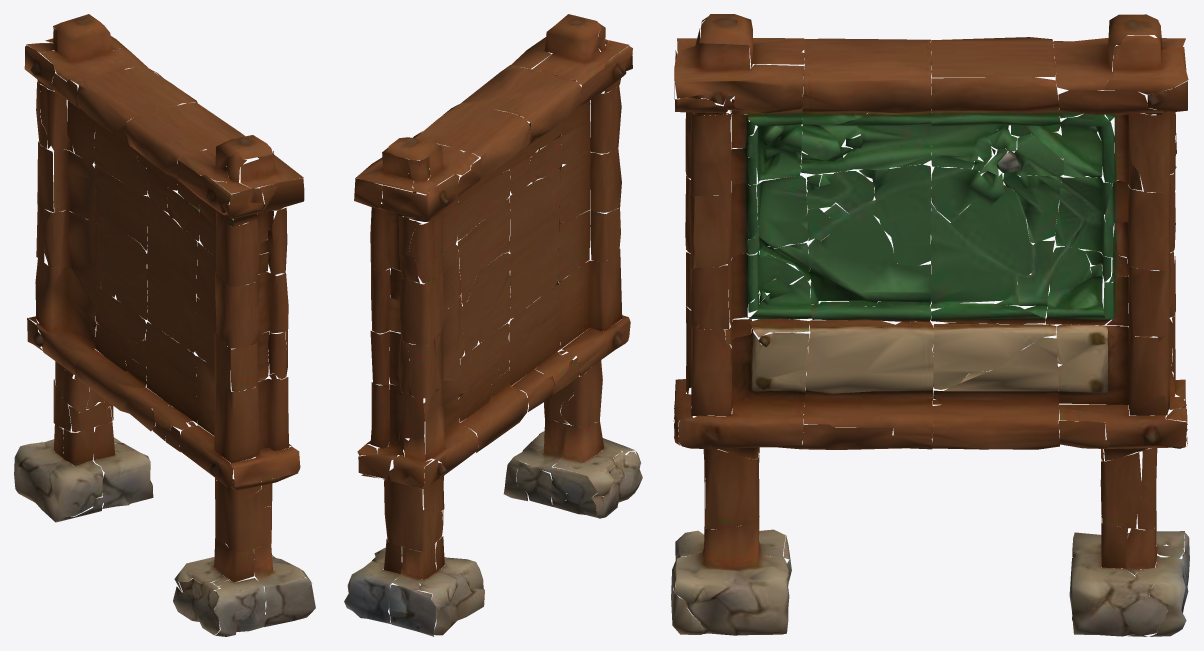
The model's file is teesign.glb.
3 renders of one model, left to right at view 1: azimuth 30°, elevation 25°; view 2: azimuth 150°, elevation 25°; view 3: azimuth 270°, elevation 25°, orthographic. The views are drawn at different scales.
Parts seen in each view (by area): view 1: tripo_node_e362d0a7-976a-42b6-b344-148a13b6e1ae; view 2: tripo_node_e362d0a7-976a-42b6-b344-148a13b6e1ae; view 3: tripo_node_e362d0a7-976a-42b6-b344-148a13b6e1ae.
Boxes of the visible parts, x1=… form: tripo_node_e362d0a7-976a-42b6-b344-148a13b6e1ae: x1=14, y1=14, x2=315, y2=636; tripo_node_e362d0a7-976a-42b6-b344-148a13b6e1ae: x1=344, y1=14, x2=642, y2=636; tripo_node_e362d0a7-976a-42b6-b344-148a13b6e1ae: x1=671, y1=14, x2=1189, y2=636.
Size of the model in its own units: 0.2324 by 1 by 0.7988.
1 material, 1 textured.
